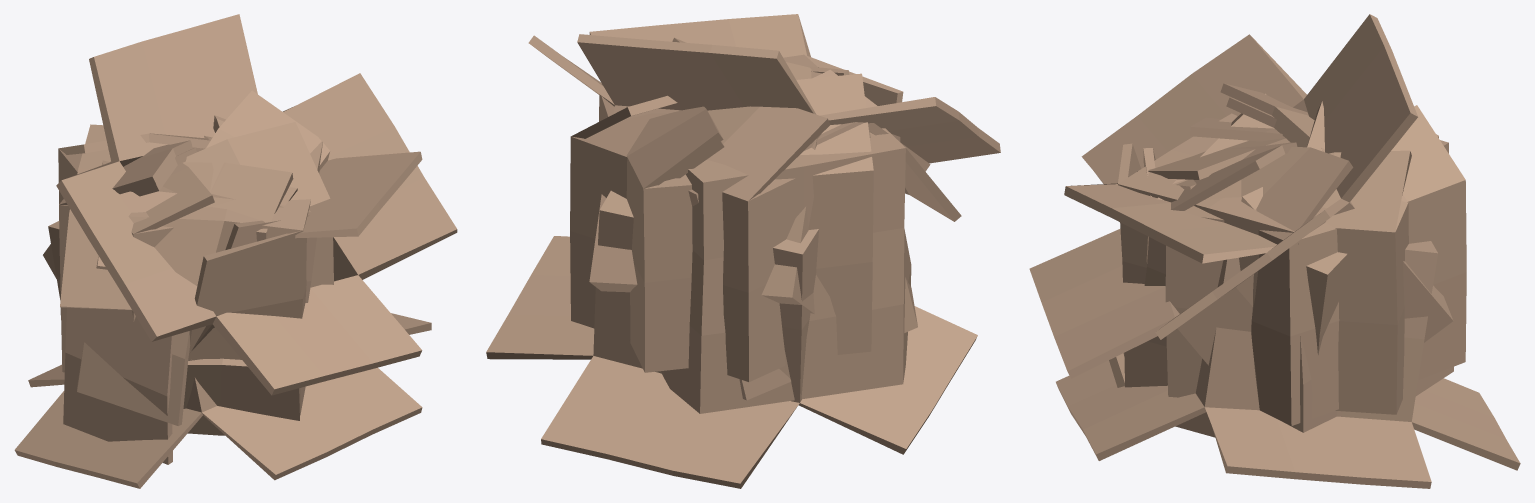
The model's file is boxes.glb.
3 views of the same model, side by side, from view 1: azimuth 30°, elevation 25°; view 2: azimuth 150°, elevation 25°; view 3: azimuth 270°, elevation 25° (orthographic). The views are drawn at different scales.
Parts seen in each view (by area): view 1: box-1, box-6, box-0, box-5, box-4, box-2, box-3; view 2: box-0, box-4, box-6, box-5, box-1, box-2, box-3; view 3: box-1, box-0, box-4, box-5, box-6, box-2, box-3.
Part boxes in pixels (x1,y1,x2,y2): box-1: (43,14,457,395); box-6: (60,124,322,464); box-0: (14,221,431,488); box-5: (58,115,333,321); box-4: (59,90,329,372); box-2: (130,147,422,238); box-3: (77,160,316,425); box-0: (486,190,977,488); box-4: (599,62,873,372); box-6: (601,54,961,413); box-5: (570,37,900,381); box-1: (528,34,1000,313); box-2: (589,14,810,180); box-3: (688,66,930,400); box-1: (1029,14,1453,378); box-0: (1056,241,1520,488); box-4: (1137,83,1466,425); box-5: (1165,101,1438,414); box-6: (1109,113,1453,437); box-2: (1064,97,1306,263); box-3: (1123,93,1347,356).
Size of the model in its own units: 3.41 by 3.18 by 3.59.
